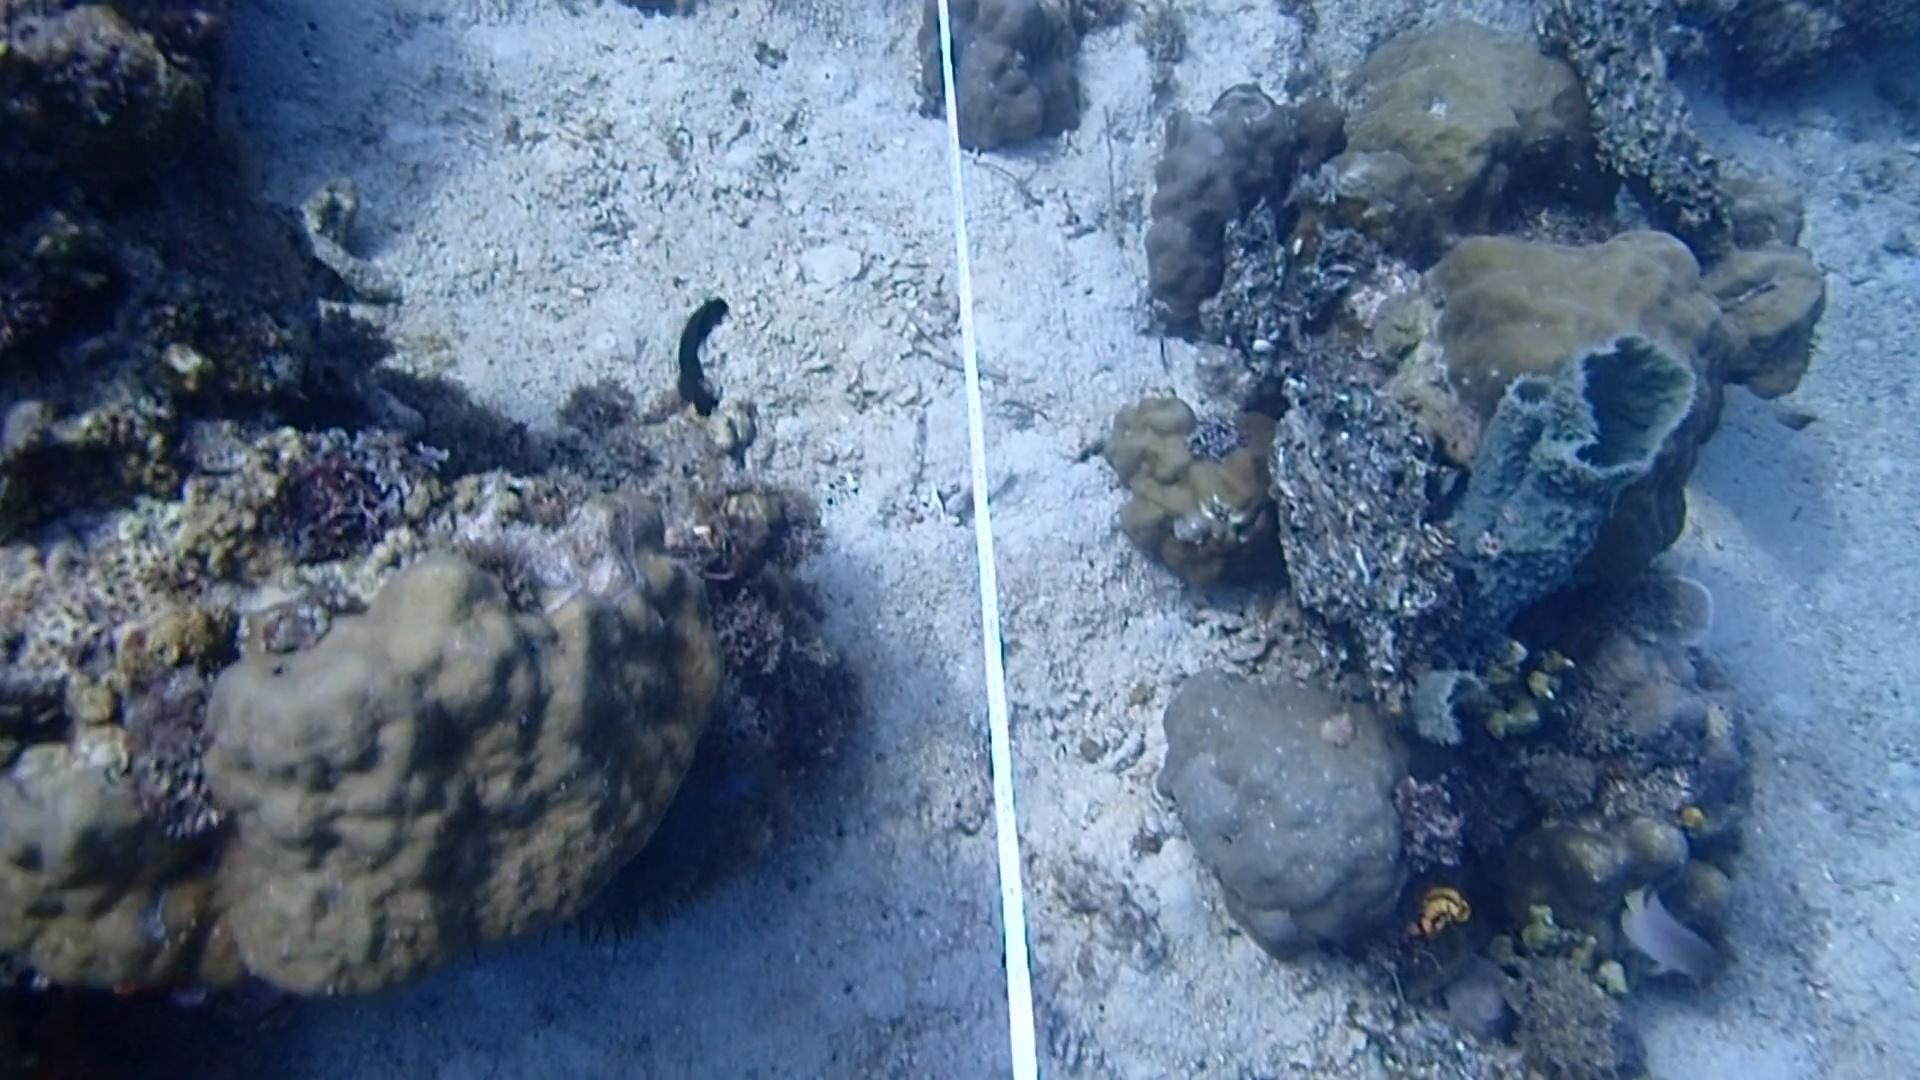Blue Nose Fish: (1609, 866, 1720, 994)
Dark Fish: (657, 286, 740, 418)
